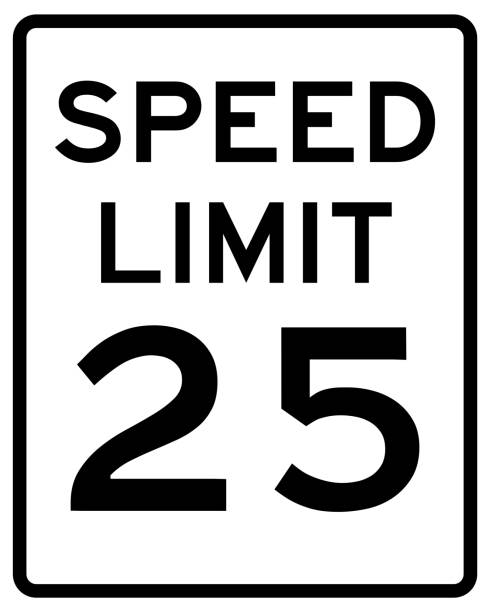SpeedLimitSign: (9, 9, 479, 601)
